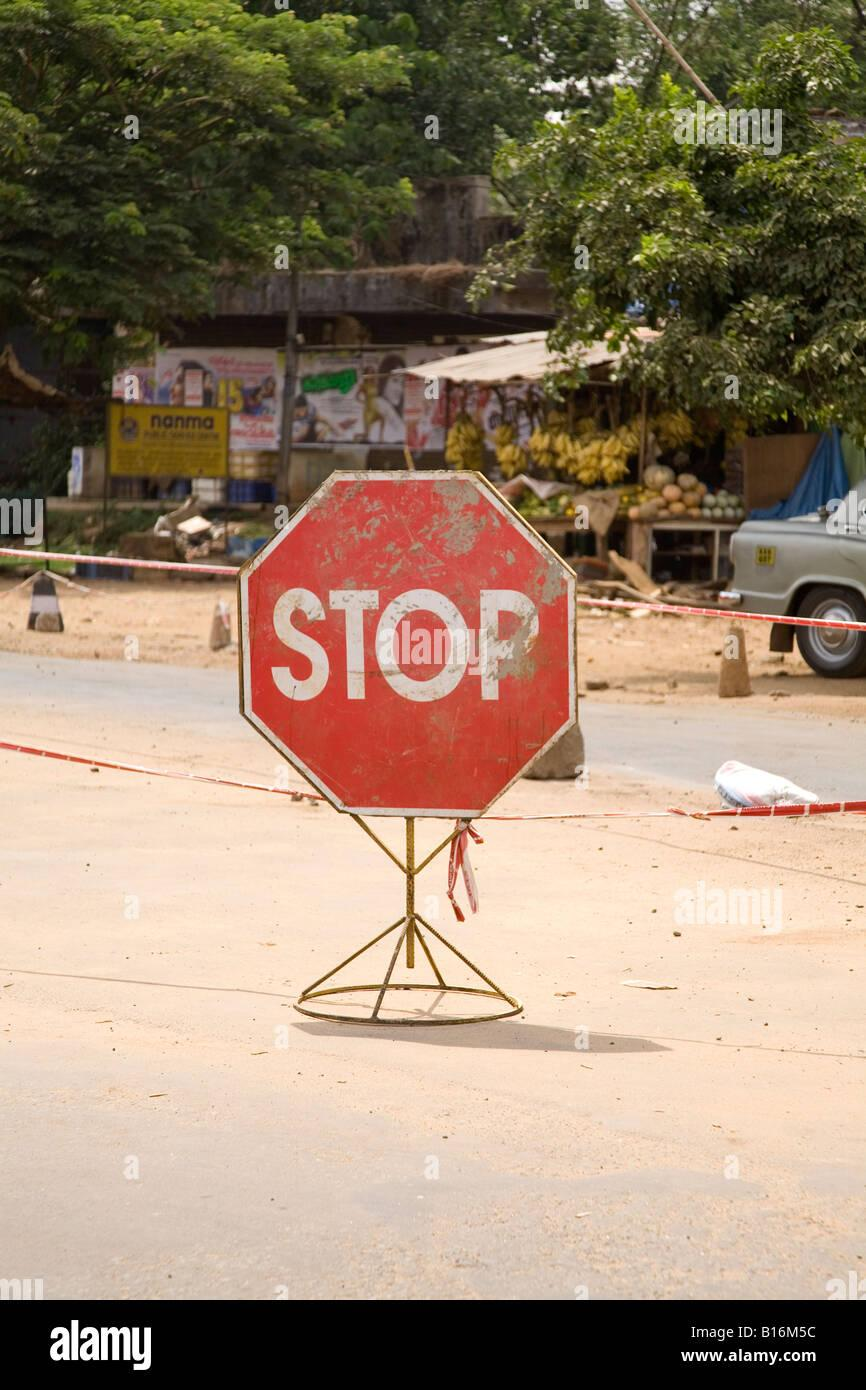Stop: (261, 444, 540, 1058)
